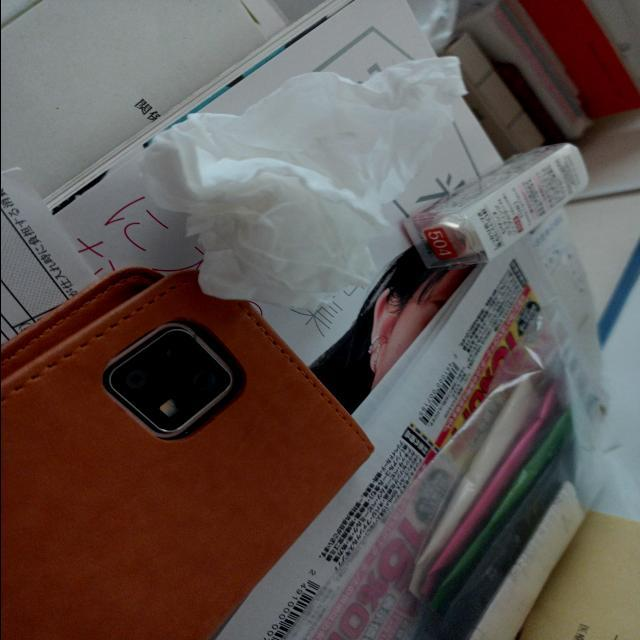Paper: (134, 53, 472, 317)
